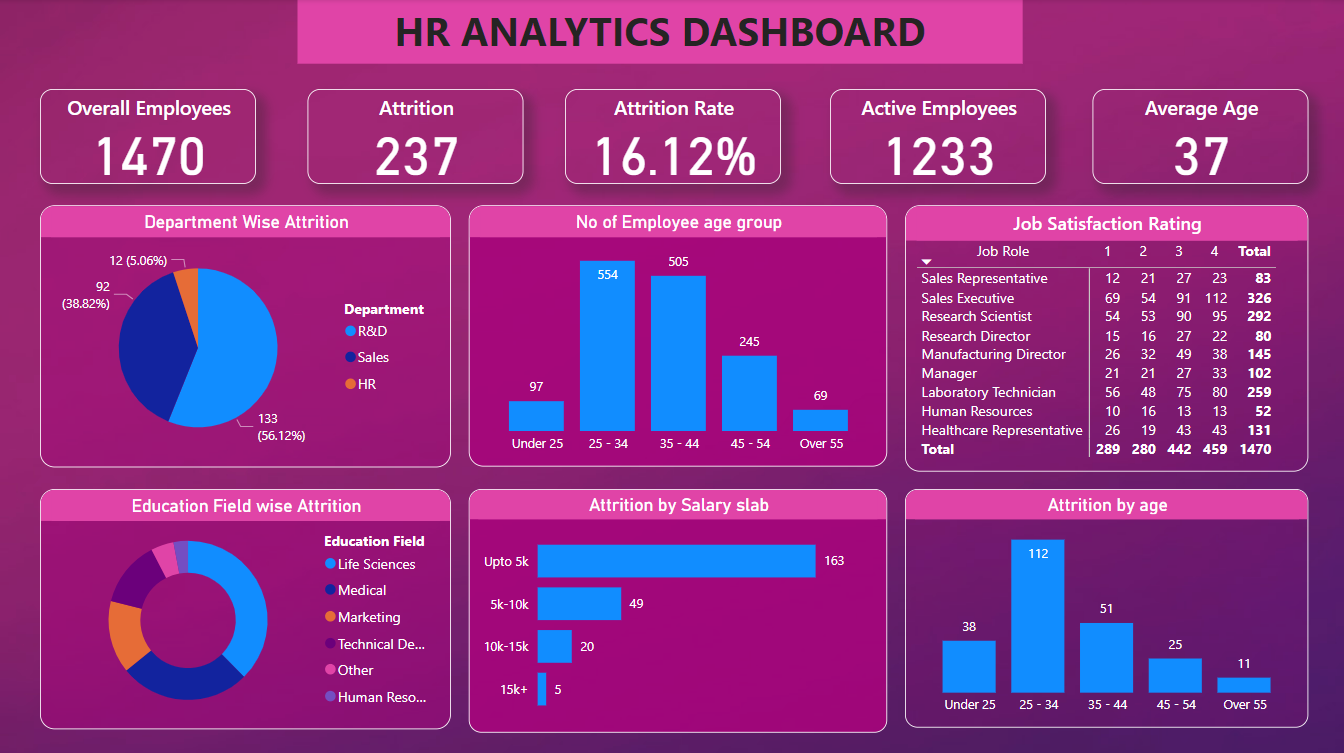

What the dashboard file says about the page in this screenshot:
{"tool":"powerbi","page":{"name":"Page 1","canvas":[1280,720],"ordinal":0},"visuals":[{"type":"card","title":"Overall Employees","fields":{"Values":["Sum(Sheet1.Employee Count)"]},"box":[38.1,85.7,205.9,90.4],"z":0},{"type":"card","title":"Attrition","fields":{"Values":["Sum(Sheet1.Attrition Count)"]},"box":[292.8,85.7,205.9,90.4],"z":1000},{"type":"card","title":"Attrition Rate","fields":{"Values":["Sheet1.Attrition Rate"]},"box":[537.9,85.7,205.9,90.4],"z":2000},{"type":"card","title":"Active Employees","fields":{"Values":["Sheet1.Active Employees"]},"box":[790.2,85.7,205.9,90.4],"z":3000},{"type":"card","title":"Average Age","fields":{"Values":["Avg(Sheet1.Age)"]},"box":[1040.1,85.7,205.9,90.4],"z":4000},{"type":"pieChart","title":"Department Wise Attrition","fields":{"Category":["Sheet1.Department"],"Y":["Sum(Sheet1.Attrition Count)"]},"box":[38.1,196.4,391.5,249.9],"z":5000},{"type":"columnChart","title":"No of Employee age group","fields":{"Category":["Sheet1.CF_age band"],"Y":["Sum(Sheet1.Employee Count)"]},"box":[446.3,196.4,398.7,248.7],"z":6000},{"type":"pivotTable","title":"Job Satisfaction Rating","fields":{"Rows":["Sheet1.Job Role"],"Columns":["Sheet1.Job Satisfaction"],"Values":["Sum(Sheet1.Employee Count)"]},"box":[861.6,196.4,384.4,253.5],"z":7000},{"type":"donutChart","title":"Education Field wise Attrition ","fields":{"Category":["Sheet1.Education Field"],"Y":["Sum(Sheet1.Attrition Count)"]},"box":[38.1,466.5,391.5,228.5],"z":8000},{"type":"barChart","title":"Attrition by Salary slab","fields":{"Category":["Sheet1.Salaryslab"],"Y":["Sum(Sheet1.Attrition Count)"]},"box":[446.3,466.5,398.7,232.1],"z":9000},{"type":"columnChart","title":"Attrition by age ","fields":{"Category":["Sheet1.CF_age band"],"Y":["Sum(Sheet1.Attrition Count)"]},"box":[861.6,466.5,384.4,227.3],"z":10000},{"type":"textbox","box":[283.2,0,690.2,61.9],"z":11000}]}

Visuals, with their boxes in screenshot pixels (x1, y1, x2, y2), scaled from the page's 1280x720 canvas onto the 1344x753 screenshot:
"Overall Employees" card: crop(40, 90, 256, 184)
"Attrition" card: crop(307, 90, 524, 184)
"Attrition Rate" card: crop(565, 90, 781, 184)
"Active Employees" card: crop(830, 90, 1046, 184)
"Average Age" card: crop(1092, 90, 1308, 184)
"Department Wise Attrition" pieChart: crop(40, 205, 451, 467)
"No of Employee age group" columnChart: crop(469, 205, 887, 466)
"Job Satisfaction Rating" pivotTable: crop(905, 205, 1308, 471)
"Education Field wise Attrition " donutChart: crop(40, 488, 451, 727)
"Attrition by Salary slab" barChart: crop(469, 488, 887, 731)
"Attrition by age " columnChart: crop(905, 488, 1308, 726)
textbox: crop(297, 0, 1022, 65)
